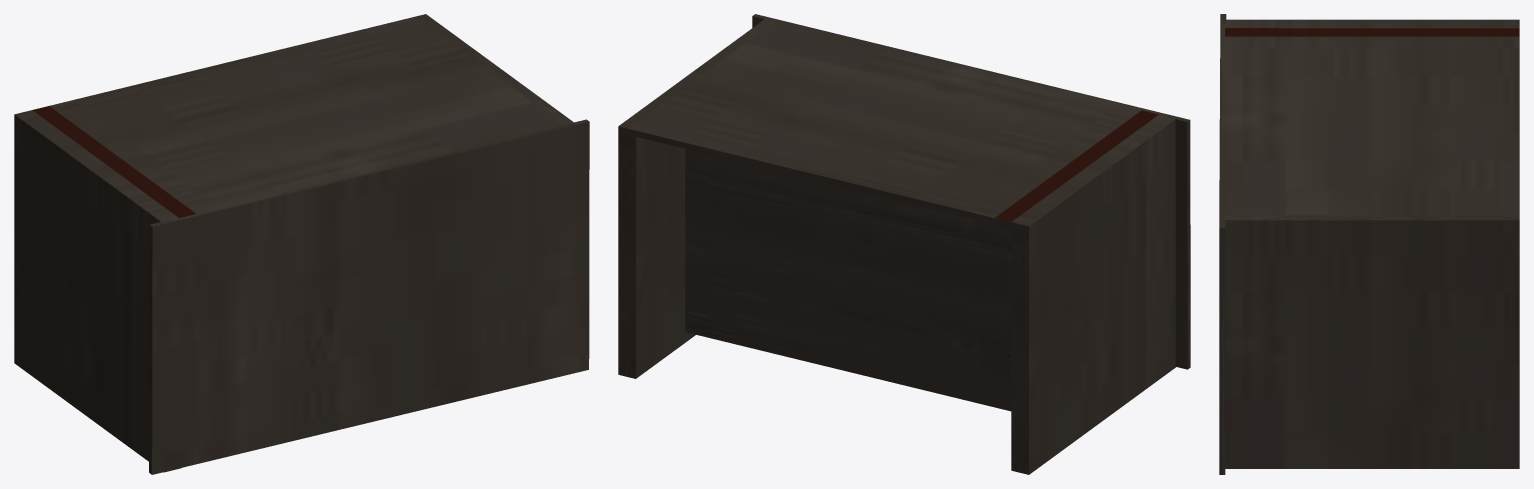
File: wooden_two_layer_shelf.obj
The picture shows the model from 3 angles, left to right: view 1: azimuth 30°, elevation 25°; view 2: azimuth 150°, elevation 25°; view 3: azimuth 270°, elevation 25°; orthographic projection.
Parts seen in each view (by area): view 1: Cube.024_Material, Cube.006_Material, Cube_Material, Cube.017_Material.free, Cube.001_Material; view 2: Cube.018_Material, Cube.006_Material, Cube_Material, Cube.001_Material, Cube.024_Material, Cube.017_Material.free; view 3: Cube.001_Material, Cube.006_Material, Cube.017_Material.free, Cube.024_Material.
Boxes of the visible parts, x1=… form: Cube.024_Material: x1=149, y1=119, x2=589, y2=474; Cube.006_Material: x1=15, y1=16, x2=564, y2=221; Cube_Material: x1=14, y1=114, x2=180, y2=472; Cube.017_Material.free: x1=32, y1=106, x2=195, y2=217; Cube.001_Material: x1=416, y1=14, x2=575, y2=127; Cube.018_Material: x1=685, y1=149, x2=1011, y2=411; Cube.006_Material: x1=623, y1=20, x2=1174, y2=230; Cube_Material: x1=1011, y1=119, x2=1175, y2=474; Cube.001_Material: x1=618, y1=17, x2=777, y2=378; Cube.024_Material: x1=752, y1=14, x2=1190, y2=369; Cube.017_Material.free: x1=995, y1=110, x2=1158, y2=221; Cube.001_Material: x1=1221, y1=215, x2=1519, y2=468; Cube.006_Material: x1=1221, y1=20, x2=1519, y2=215; Cube.017_Material.free: x1=1225, y1=28, x2=1519, y2=36; Cube.024_Material: x1=1219, y1=14, x2=1226, y2=474.
Bounding box in the file's own units: 7.01 × 3.82 × 4.18.
